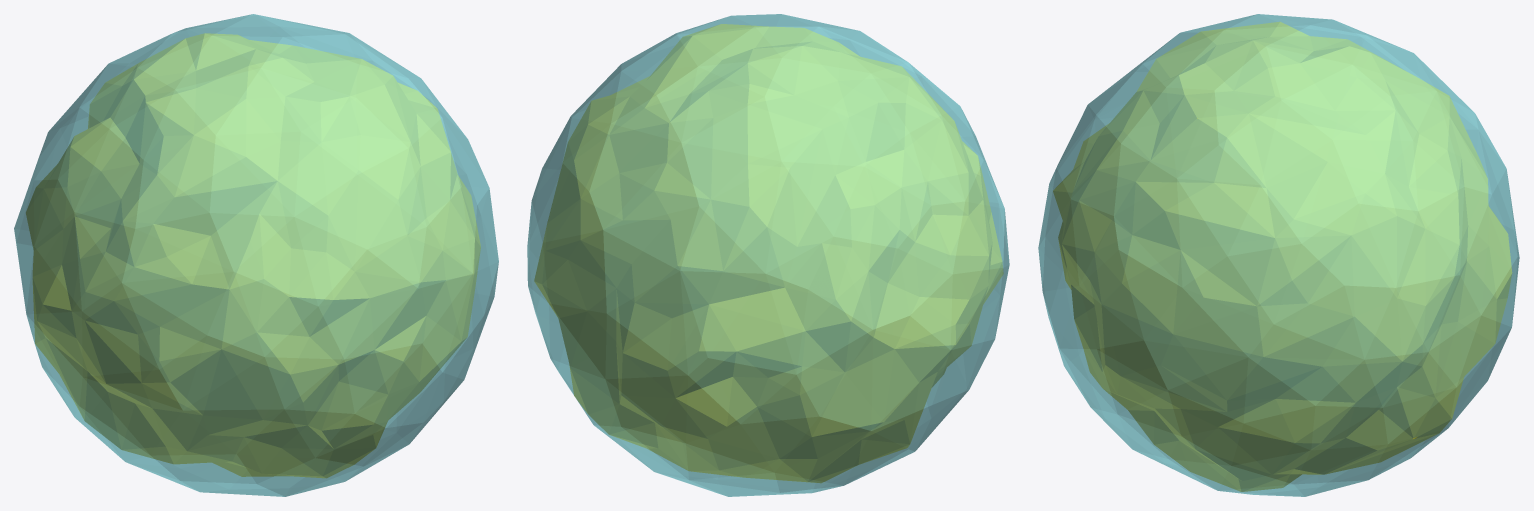
File: water_planet2.fbx
3 views of the same model, side by side, from view 1: azimuth 30°, elevation 25°; view 2: azimuth 150°, elevation 25°; view 3: azimuth 270°, elevation 25° (orthographic).
Parts seen in each view (by area): view 1: water_planet2; view 2: water_planet2; view 3: water_planet2.
Boxes of the visible parts, bbox=[...] form: water_planet2: bbox=[14, 14, 498, 496]; water_planet2: bbox=[527, 14, 1009, 496]; water_planet2: bbox=[1038, 14, 1519, 496].
Size of the model in its own units: 199 by 199 by 199.
